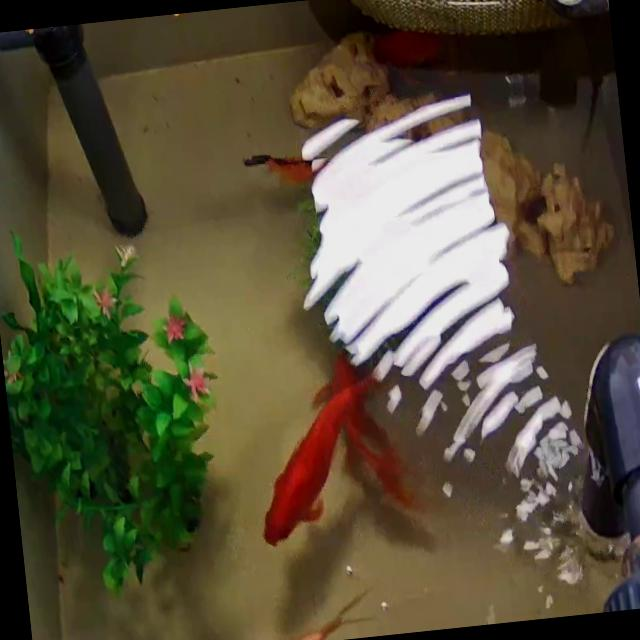fish: (236, 335, 401, 556), (324, 344, 406, 516), (179, 589, 372, 640), (242, 147, 319, 190), (371, 26, 444, 71)
